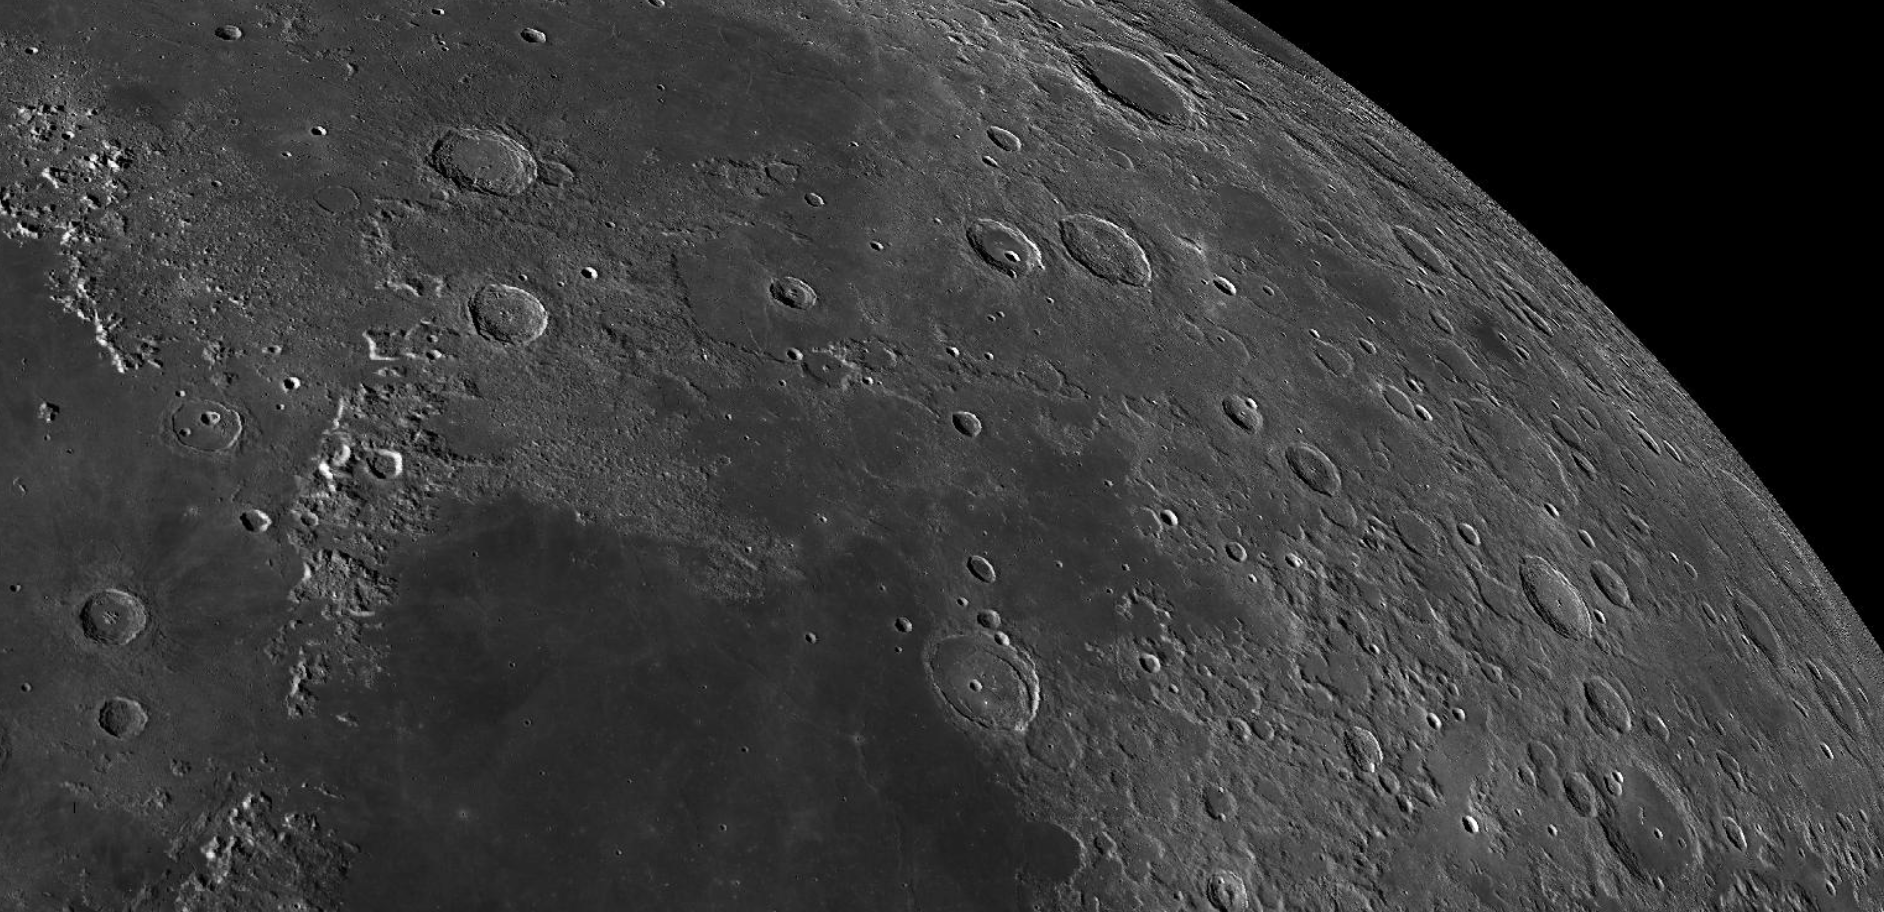crater: (1443, 381, 1588, 526), (910, 620, 1054, 750), (1061, 32, 1217, 151), (412, 115, 592, 209), (1049, 204, 1171, 304), (1506, 544, 1598, 666), (55, 577, 179, 661), (457, 274, 561, 362), (151, 385, 269, 459), (482, 13, 634, 70), (1727, 572, 1795, 676), (192, 496, 297, 559), (76, 684, 165, 756), (1369, 221, 1457, 291), (1272, 435, 1351, 503), (751, 266, 837, 324), (955, 103, 1042, 156), (1294, 326, 1358, 397), (794, 340, 861, 403), (935, 398, 1001, 459), (1186, 862, 1268, 910), (1194, 773, 1256, 828), (191, 10, 261, 50), (1715, 804, 1755, 863), (1449, 801, 1495, 851), (1254, 269, 1294, 311), (720, 735, 765, 765)
